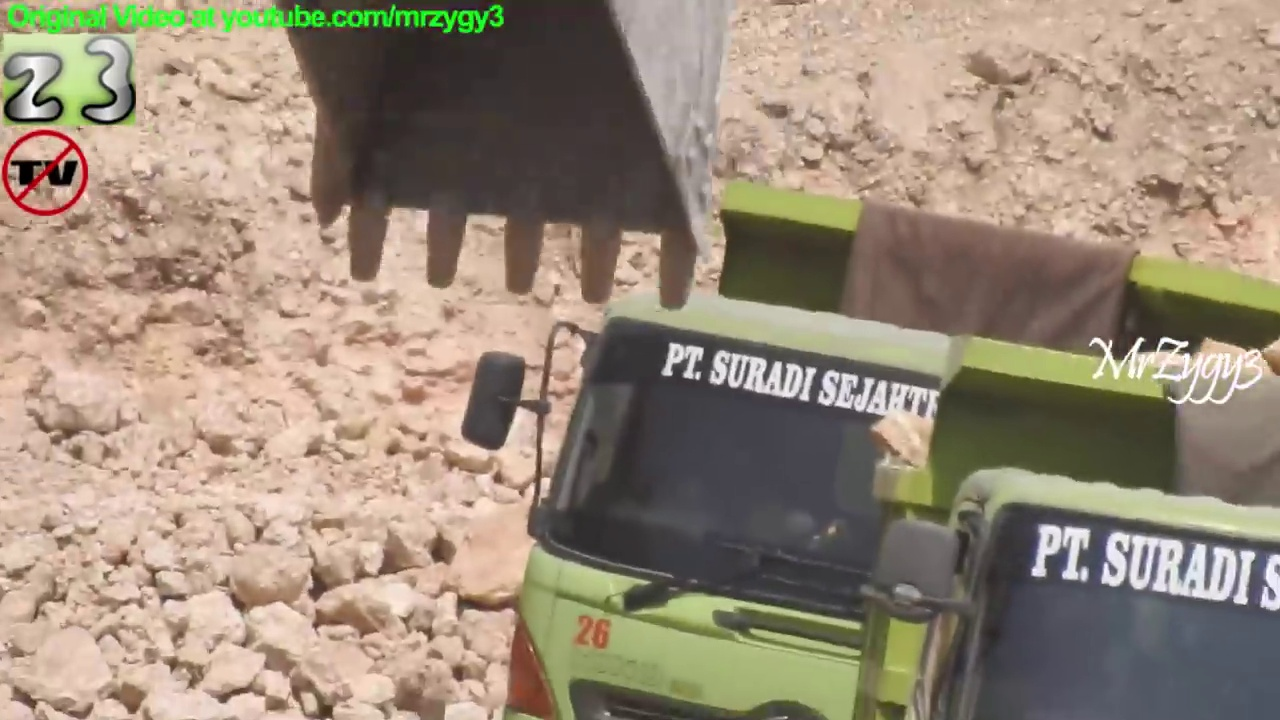excavator: (272, 1, 741, 330)
truck: (457, 175, 1280, 720), (857, 324, 1280, 720)
